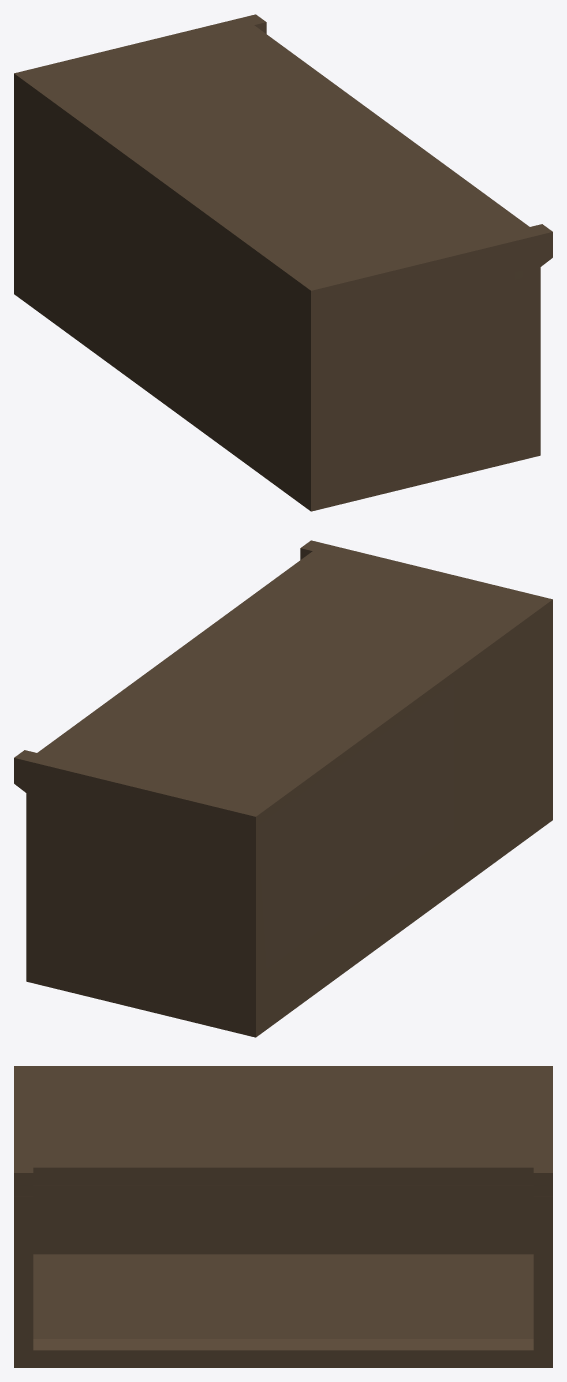
Rendered from SM_kitchenCabinet_007.glb.
3 renders of one model, top to bottom at view 1: azimuth 30°, elevation 25°; view 2: azimuth 150°, elevation 25°; view 3: azimuth 270°, elevation 25°, orthographic. The views are drawn at different scales.
Parts seen in each view (by area): view 1: SM_kitchenCabinet_007; view 2: SM_kitchenCabinet_007; view 3: SM_kitchenCabinet_007.
Part boxes in pixels (<box>): SM_kitchenCabinet_007: <box>14,14,552,511</box>; SM_kitchenCabinet_007: <box>14,540,552,1037</box>; SM_kitchenCabinet_007: <box>14,1066,552,1367</box>.
Size of the model in its own units: 0.47 by 0.41 by 1.
Materials: 1 (1 with a texture image).
